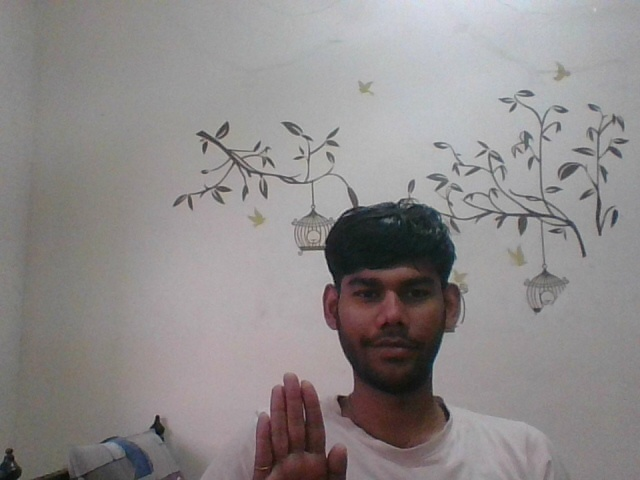Hello: (236, 372, 362, 480)
